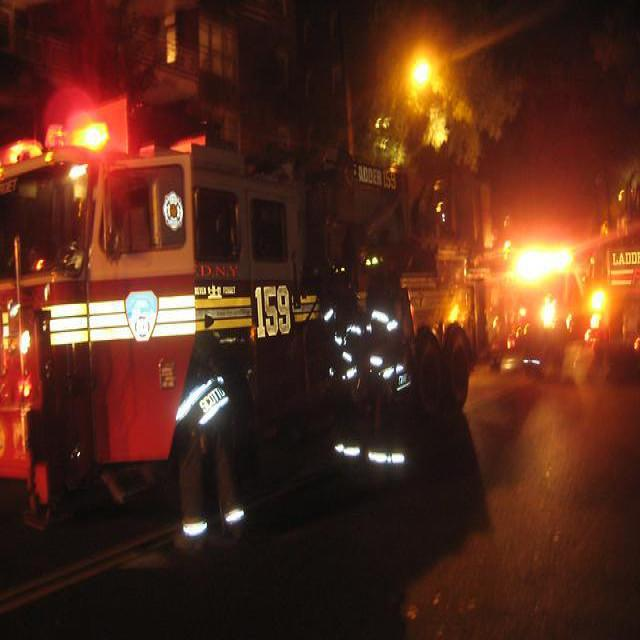other: (502, 230, 580, 290), (394, 46, 448, 116), (60, 114, 118, 163), (538, 292, 564, 336), (583, 283, 613, 320)
